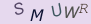M: (29, 8, 45, 22)
R: (79, 3, 89, 14)
S: (14, 2, 25, 16)
U: (50, 2, 62, 18)
W: (63, 5, 80, 20)
